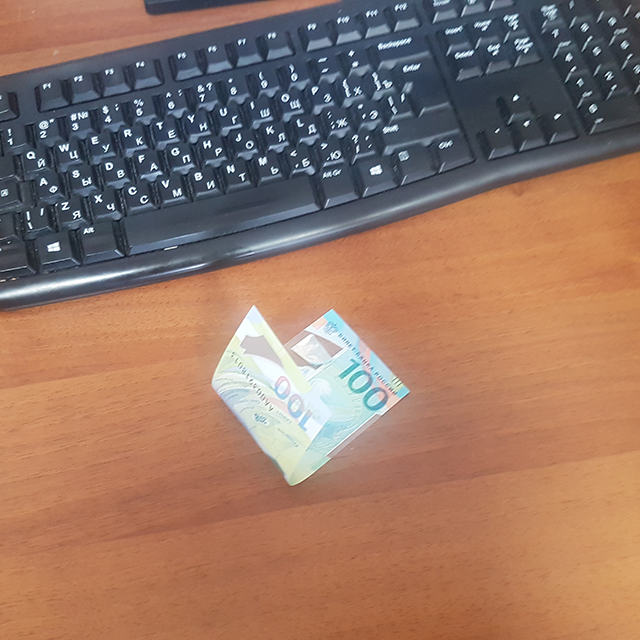banknotes: (210, 303, 410, 488)
